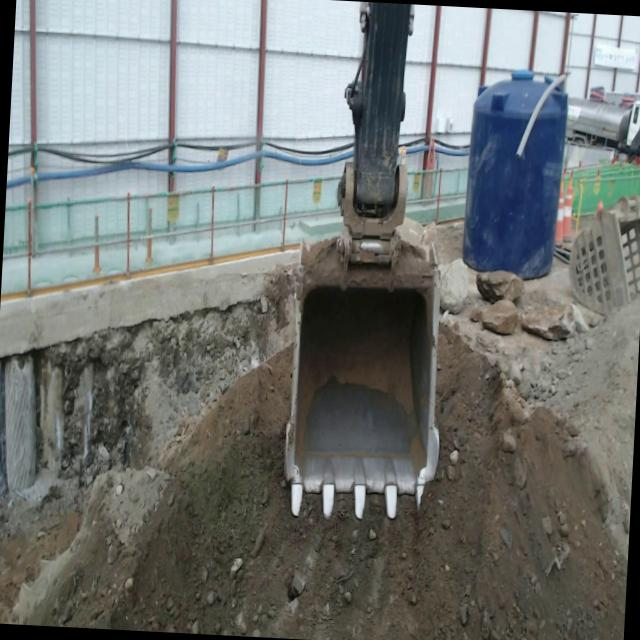stone: (520, 302, 588, 340), (440, 259, 470, 314), (476, 271, 524, 302), (481, 300, 519, 334)
white-sand: (44, 331, 627, 640), (523, 294, 640, 563), (0, 467, 170, 625)
